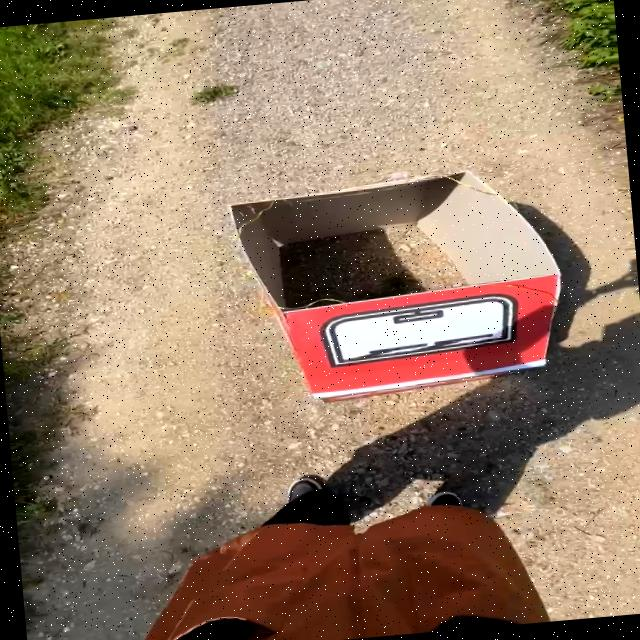red_car: (204, 134, 617, 427)
